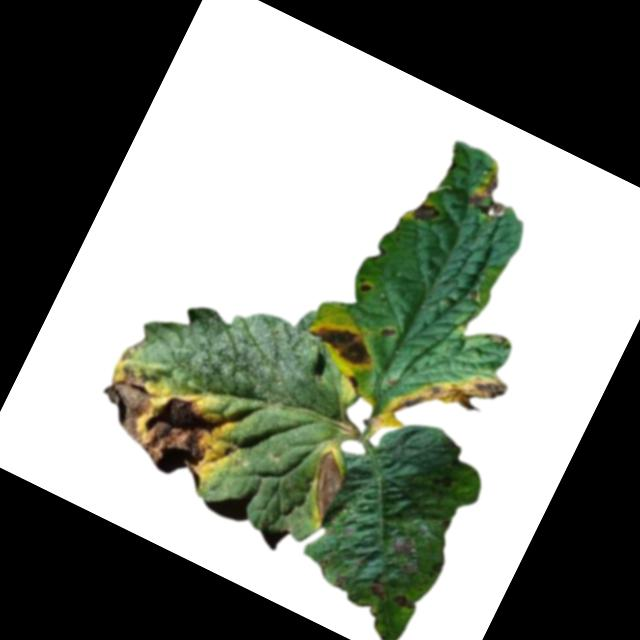Early_blight: (81, 357, 249, 498), (369, 337, 517, 480), (294, 447, 354, 526), (305, 312, 378, 371), (463, 165, 521, 225), (410, 199, 443, 231), (366, 578, 394, 604), (392, 593, 418, 615), (377, 322, 399, 343), (357, 280, 375, 296)
